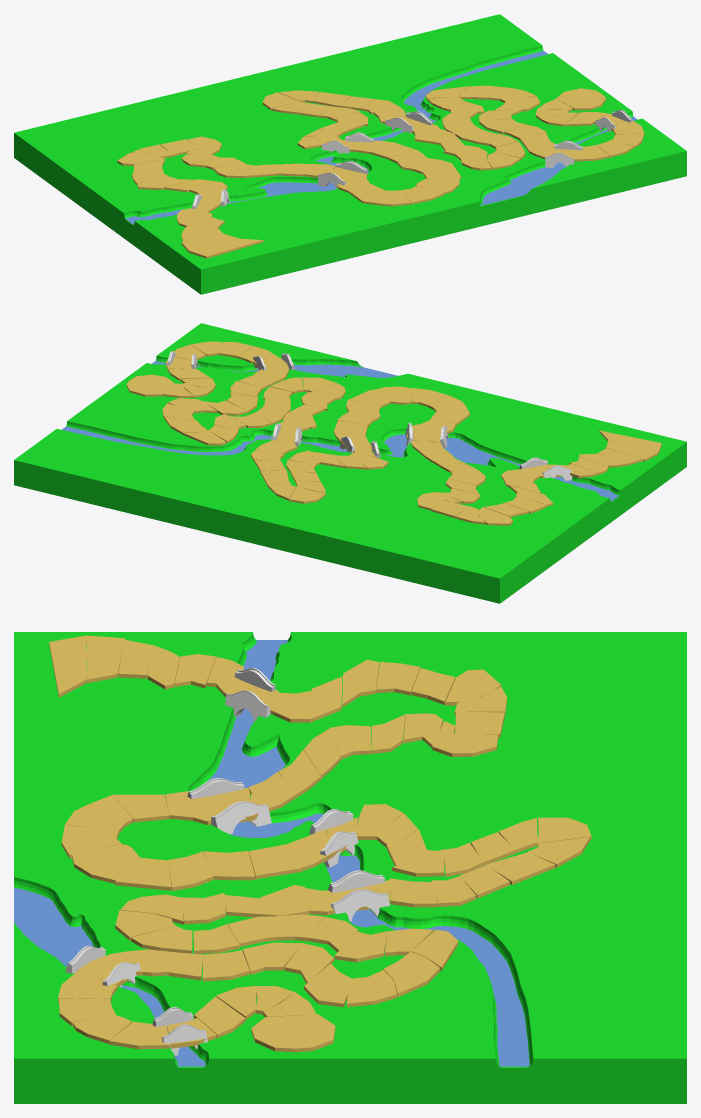
File: MapV1.glb
3 views of the same model, one above another, from view 1: azimuth 30°, elevation 25°; view 2: azimuth 150°, elevation 25°; view 3: azimuth 270°, elevation 25° (orthographic). The views are drawn at different scales.
Parts seen in each view (by area): view 1: TableroBase, Casillas, Agua; view 2: TableroBase, Casillas, Agua; view 3: TableroBase, Casillas, Agua, Cube.003, Cube.008, Cube.001, Cube.007, Cube.006, Cube.004.
Boxes of the visible parts, box(x1,y1,x2,y2) form: TableroBase: box(14, 14, 686, 294); Casillas: box(117, 85, 644, 258); Agua: box(125, 50, 637, 224); TableroBase: box(14, 323, 686, 603); Casillas: box(126, 341, 661, 525); Agua: box(61, 361, 619, 501); TableroBase: box(14, 632, 686, 1103); Casillas: box(49, 635, 591, 1052); Agua: box(14, 640, 529, 1066); Cube.003: box(211, 801, 271, 834); Cube.008: box(331, 889, 390, 921); Cube.001: box(225, 690, 270, 722); Cube.007: box(328, 870, 384, 892); Cube.006: box(320, 831, 358, 867); Cube.004: box(187, 778, 244, 799).
Bounding box in the file's own units: 72 × 5.04 × 48.
